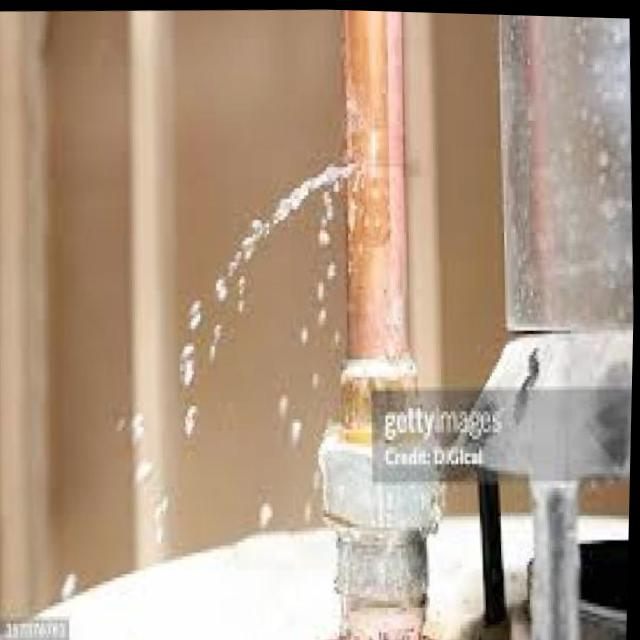leak: (155, 153, 348, 549)
